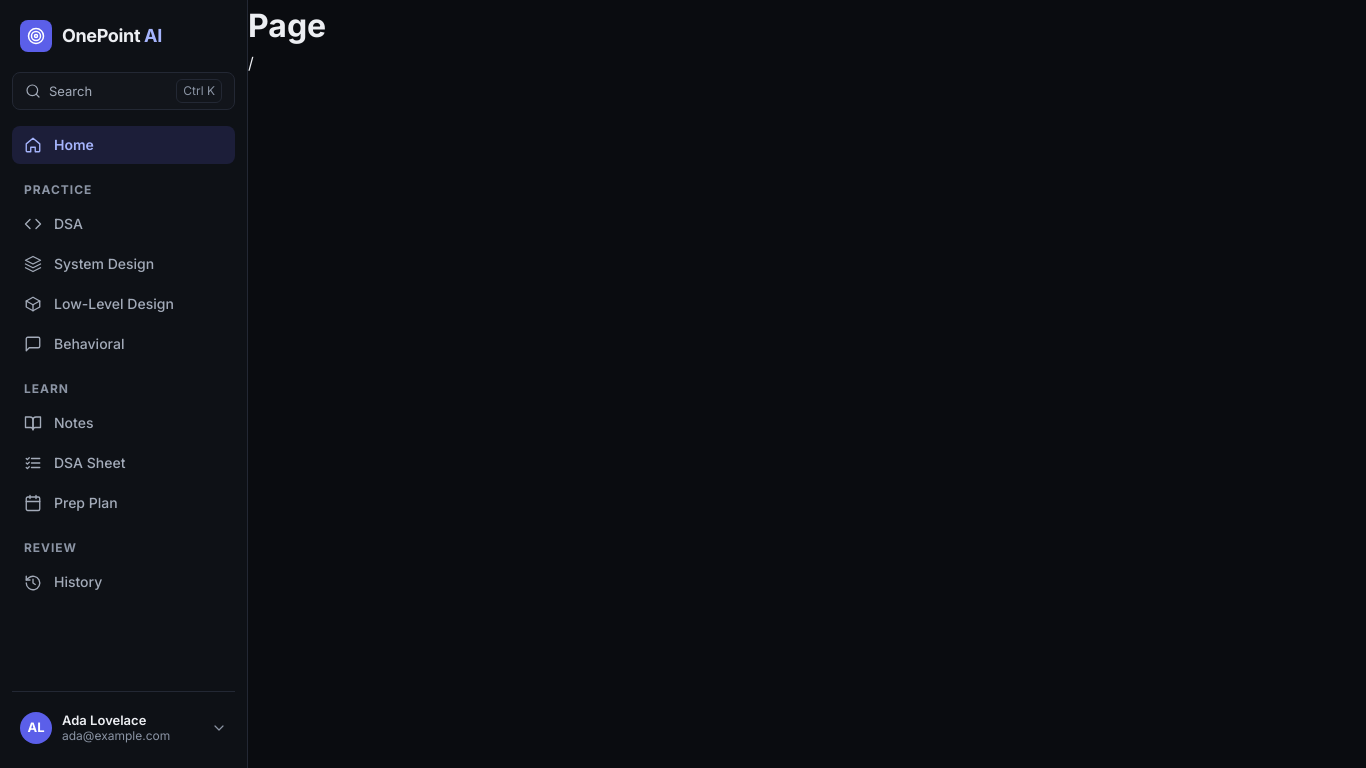
Test: command palette › moves with the arrow keys, wrapping around, and goes to the highlighted page on Enter
Press k
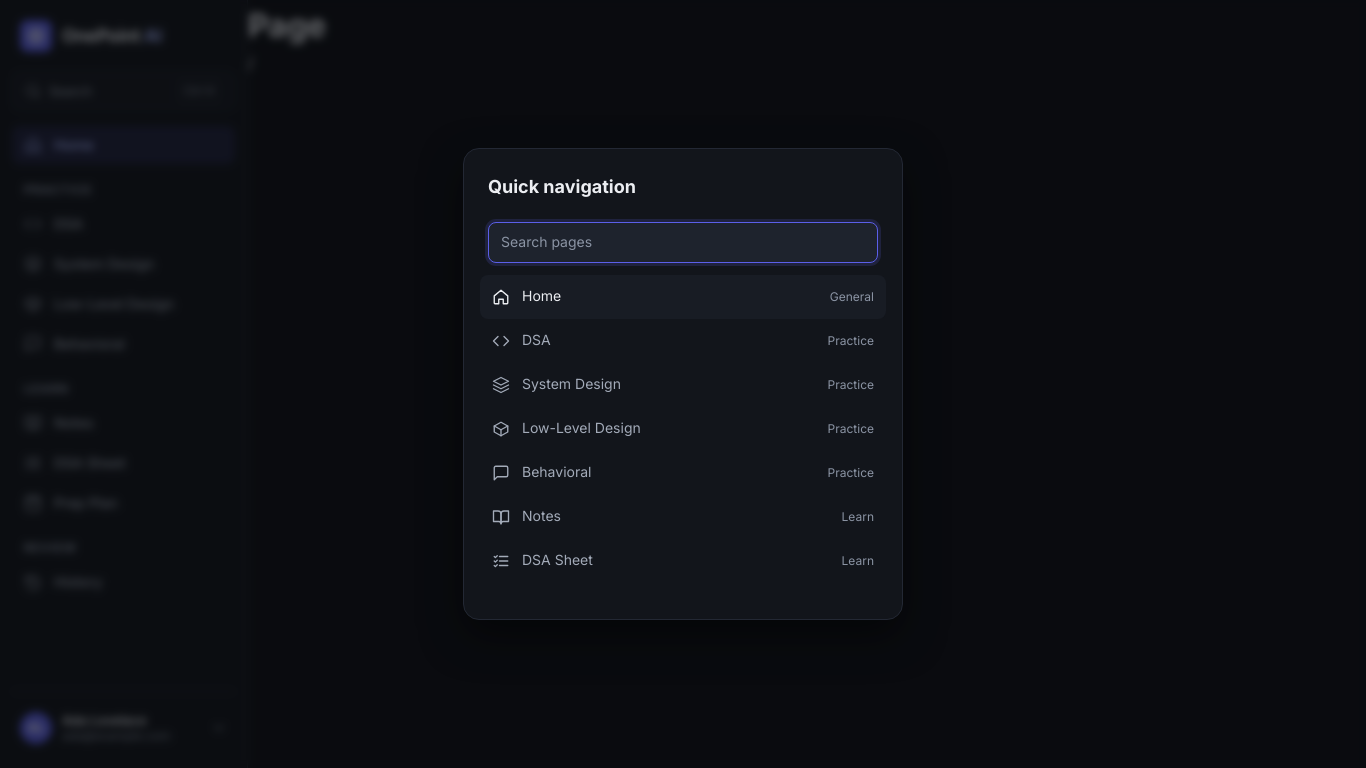
Type "learn" into the dropdown.
click(683, 242); type("learn")  # box [488,222,878,263]
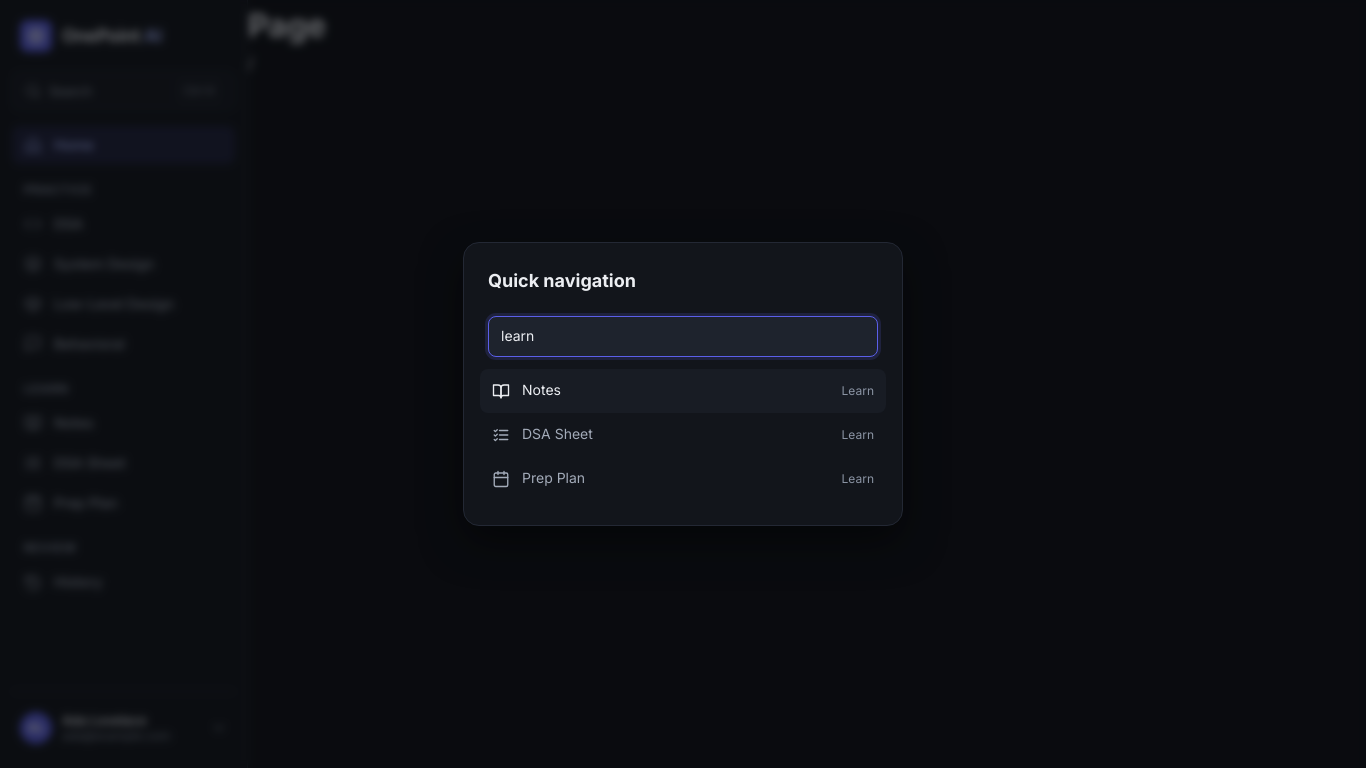
Press ArrowDown in the dropdown, box [488,316,878,357]
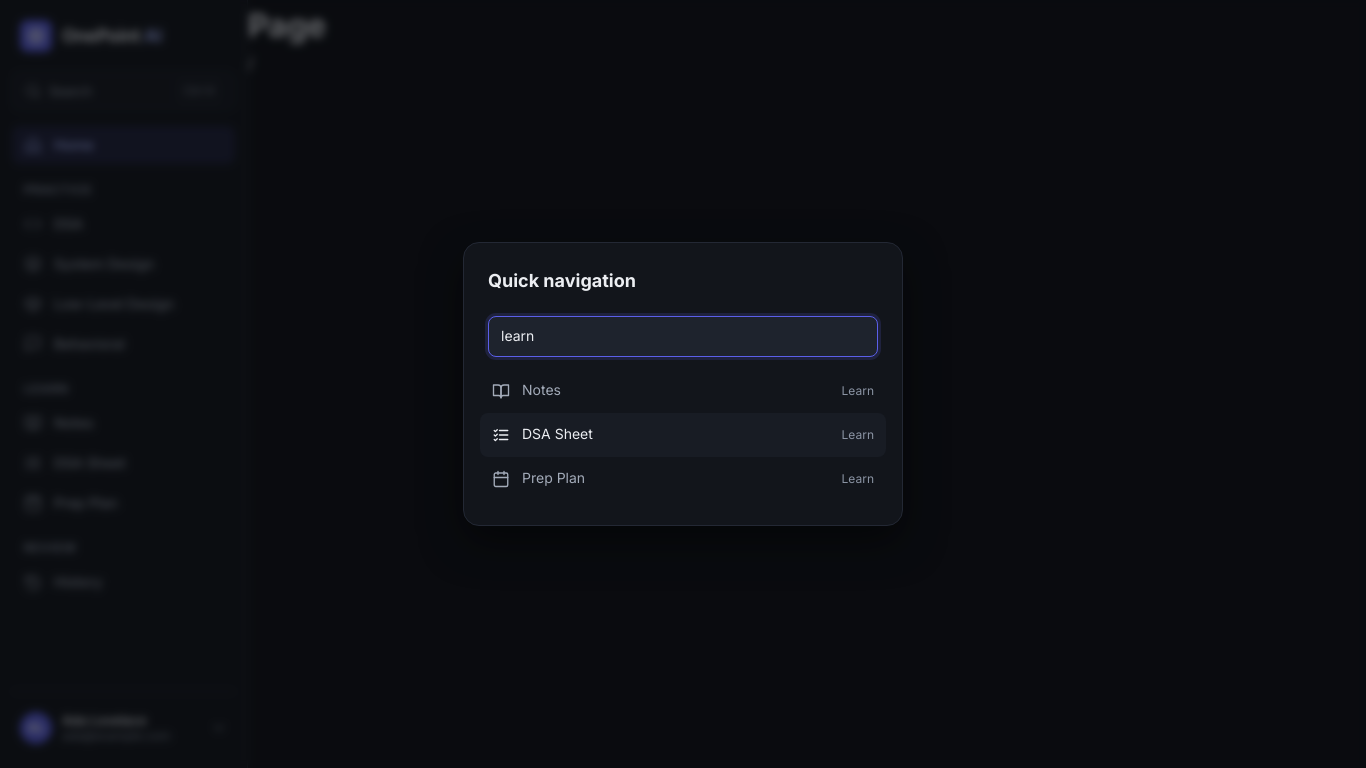
Check: the option "DSA Sheet Learn" is selected, box [480,413,886,457]
Press ArrowUp in the dropdown, box [488,316,878,357]
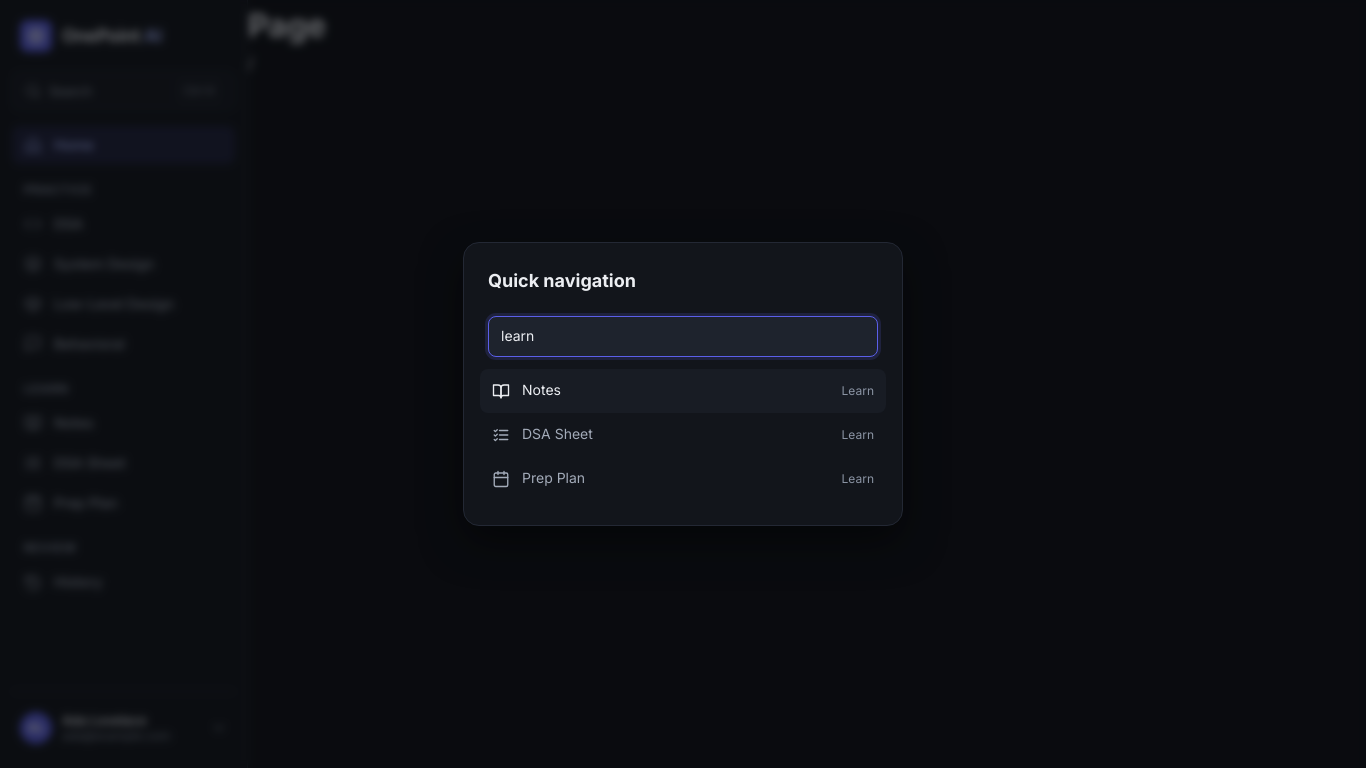
Press ArrowUp in the dropdown, box [488,316,878,357]
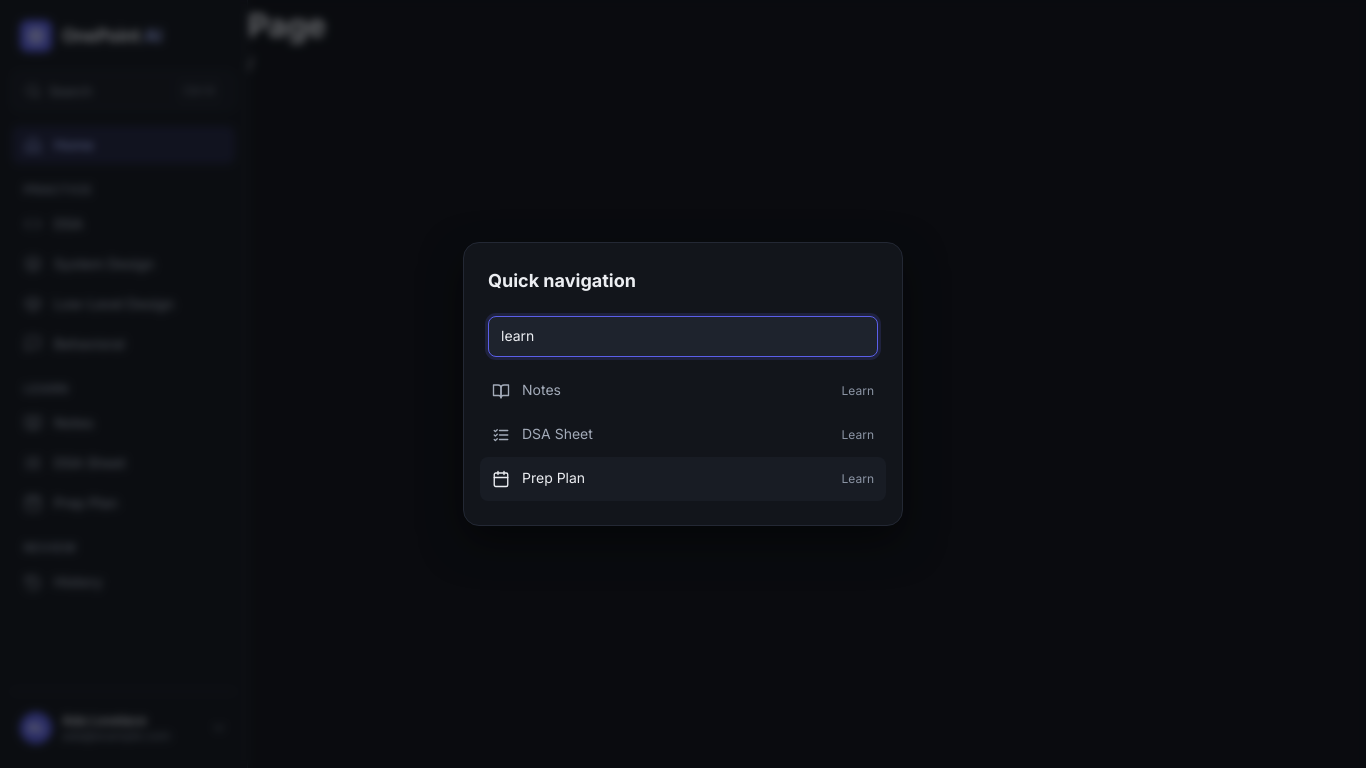
Check: the option "Prep Plan Learn" is selected, box [480,457,886,501]
Press Enter in the dropdown, box [488,316,878,357]
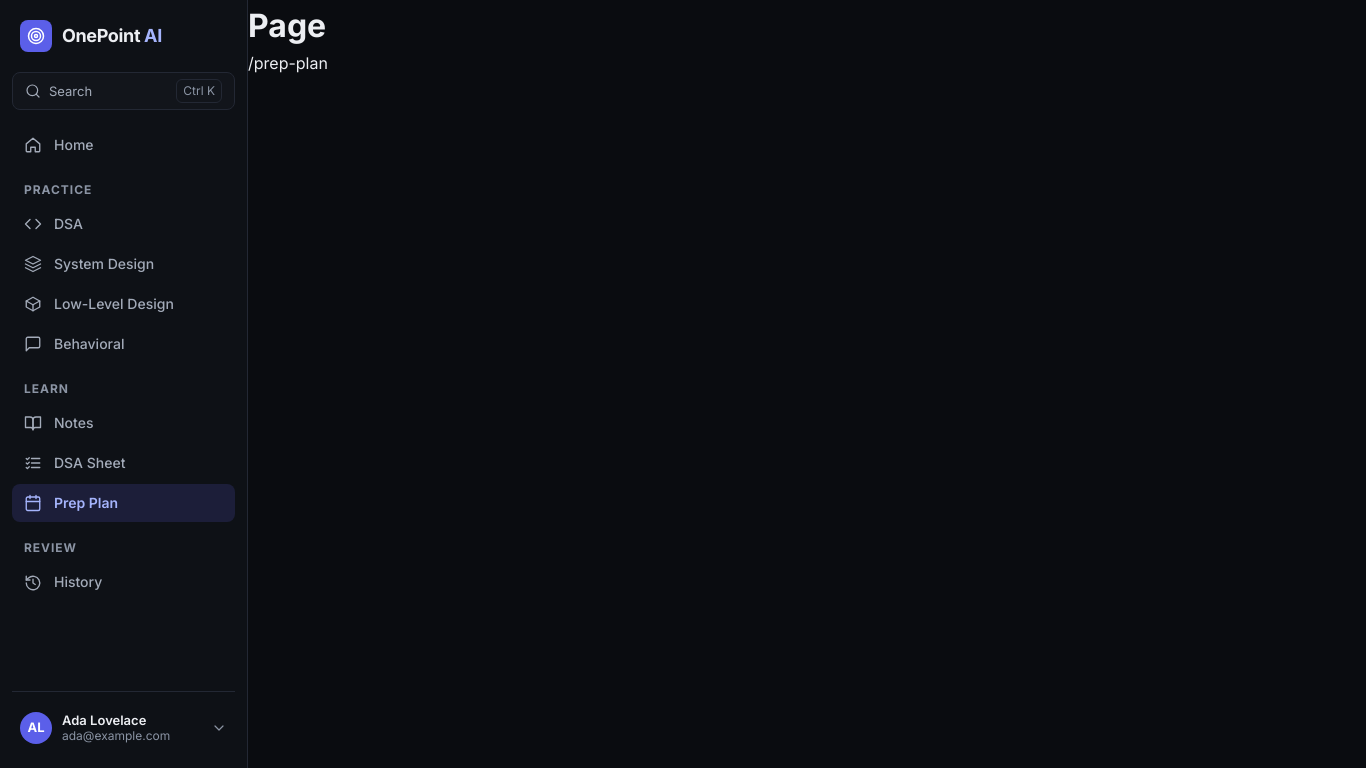
Check: the text with test id "where" reads "/prep-plan", box [248,53,328,73]
Check: the dialog is gone
